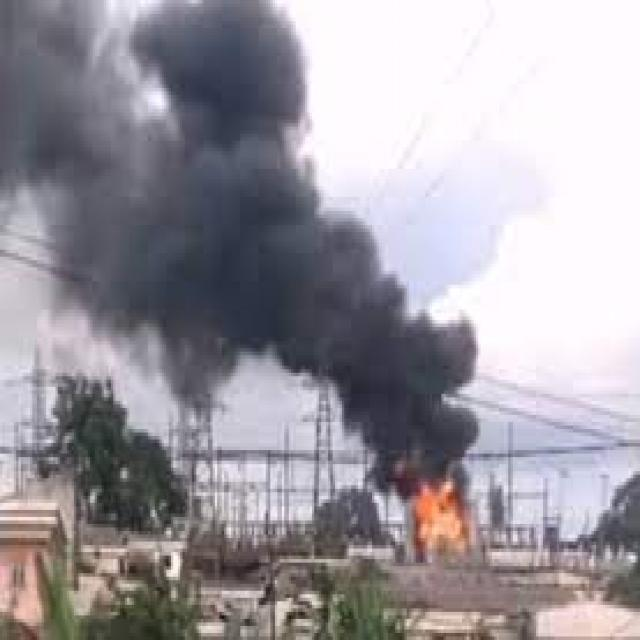fire: (411, 485, 476, 559)
smoke: (2, 4, 289, 398), (289, 14, 478, 485)
